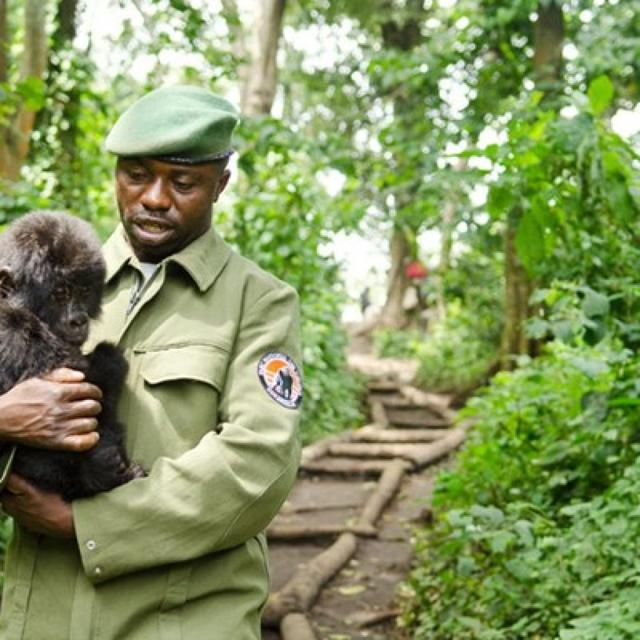ranger: (1, 61, 372, 638)
